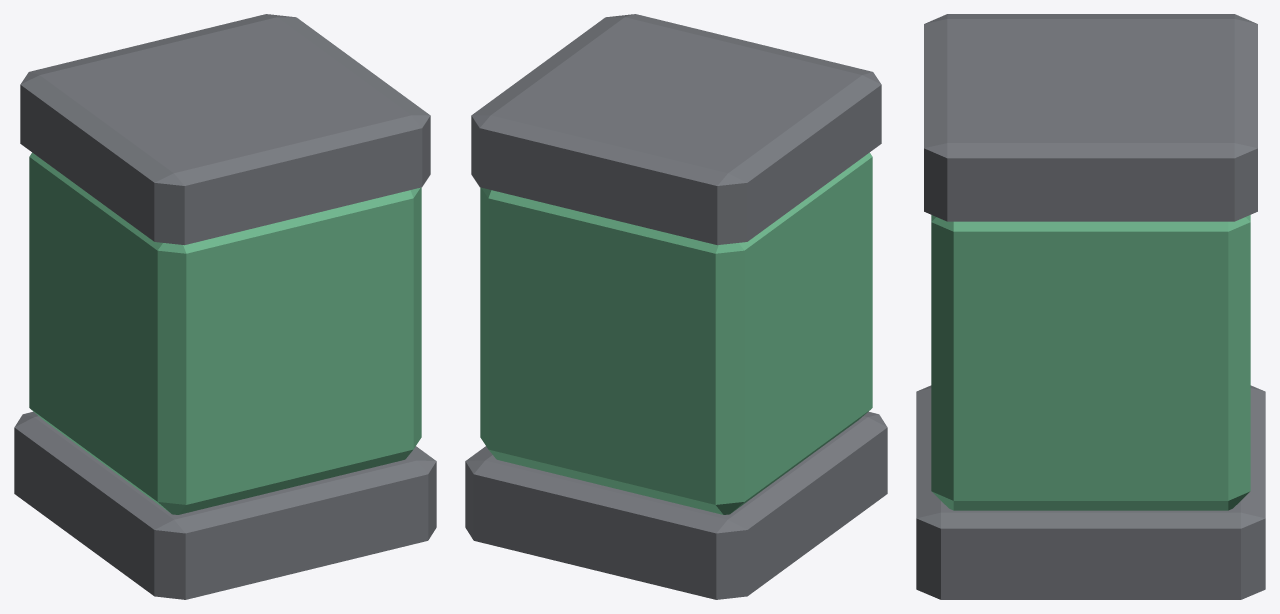
The model's file is b04_slatted_park_litter_bin.glb.
3 renders of one model, left to right at view 1: azimuth 30°, elevation 25°; view 2: azimuth 150°, elevation 25°; view 3: azimuth 270°, elevation 25°, orthographic. The views are drawn at different scales.
Visible parts, largest first — view 1: b04_slatted_park_litter_bin; view 2: b04_slatted_park_litter_bin; view 3: b04_slatted_park_litter_bin.
Boxes of the visible parts, left/top/right/bottom form: b04_slatted_park_litter_bin: left=14, top=14, right=436, bottom=599; b04_slatted_park_litter_bin: left=465, top=14, right=887, bottom=599; b04_slatted_park_litter_bin: left=916, top=14, right=1265, bottom=599.
Size of the model in its own units: 0.66 by 0.941 by 0.66.
